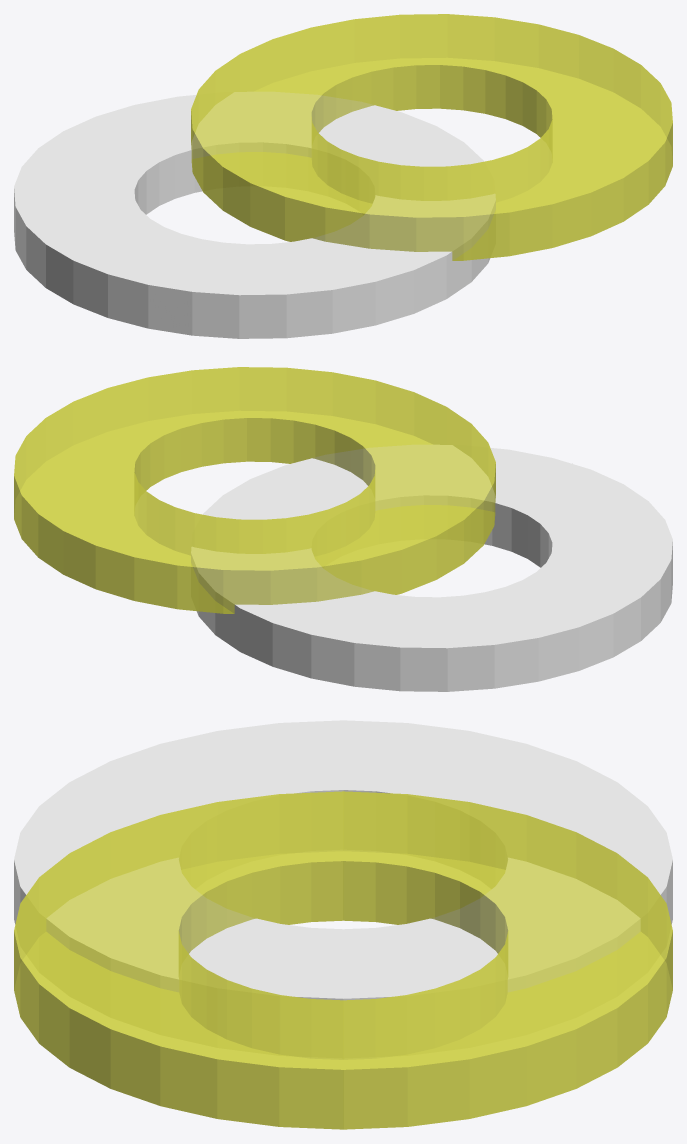
The model's file is unidad.fbx.
The picture shows the model from 3 angles, top to bottom: view 1: azimuth 30°, elevation 25°; view 2: azimuth 150°, elevation 25°; view 3: azimuth 270°, elevation 25°; orthographic projection. The views are drawn at different scales.
Parts seen in each view (by area): view 1: Cylinder.017; view 2: Cylinder.017; view 3: Cylinder.017.
Boxes of the visible parts, box(x1,y1,x2,y2) form: Cylinder.017: box(14, 14, 672, 338); Cylinder.017: box(14, 367, 672, 691); Cylinder.017: box(14, 720, 672, 1129).
Size of the model in its own units: 854 by 107 by 600.
